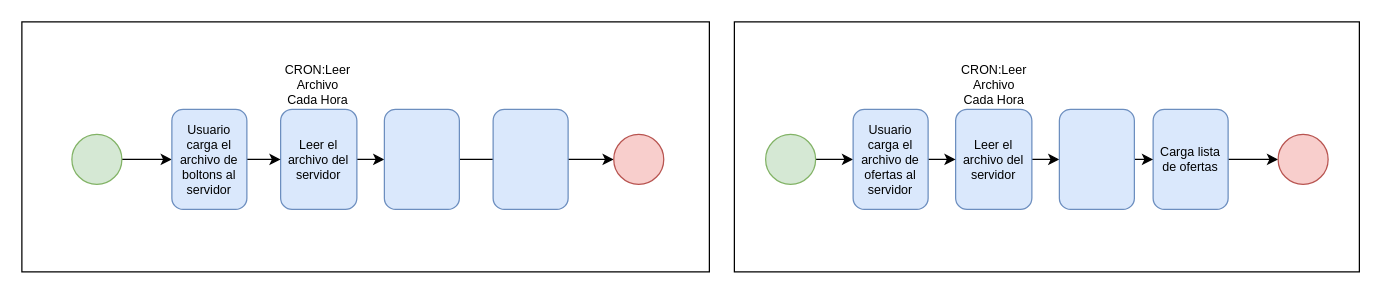
This 1381x294 diagram has some shape labels left out. Here are the shapes that lost their labels. From the top down, the box of each, then its label:
(383, 108, 459, 209): Limpiar Hash
(492, 108, 568, 209): Carga lista de boltons
(1058, 108, 1134, 209): Limpiar Set
